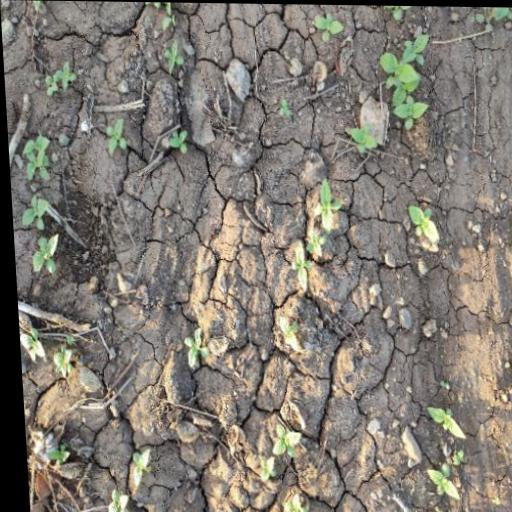weed: (324, 25, 459, 166), (17, 123, 76, 307), (270, 180, 347, 296), (414, 401, 467, 510), (234, 417, 303, 489), (100, 111, 195, 155), (396, 201, 446, 254), (39, 55, 79, 100)
